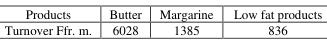table: (3, 3, 321, 37)
table column: (222, 3, 321, 37), (3, 3, 99, 37), (149, 3, 222, 37), (99, 3, 149, 37)
table column header: (3, 3, 321, 20)
table row: (3, 3, 321, 20), (3, 20, 321, 37)
